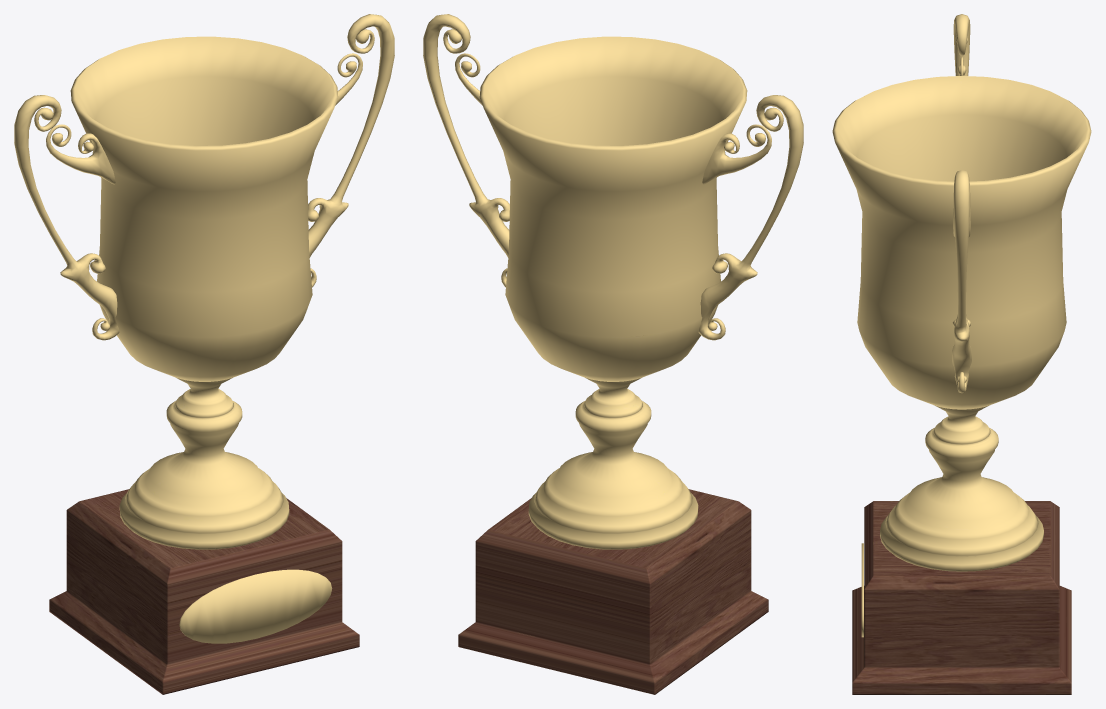
3 renders of one model, left to right at view 1: azimuth 30°, elevation 25°; view 2: azimuth 150°, elevation 25°; view 3: azimuth 270°, elevation 25°, orthographic. The views are drawn at different scales.
Parts seen in each view (by area): view 1: trophy_0; view 2: trophy_0; view 3: trophy_0.
Boxes of the visible parts, x1,y1,x2,y2 form: trophy_0: [14, 14, 394, 694]; trophy_0: [423, 14, 803, 694]; trophy_0: [832, 14, 1091, 694].
Bounding box in the file's own units: 3.12 × 4.52 × 1.91.
Materials: 1 (1 with a texture image).
